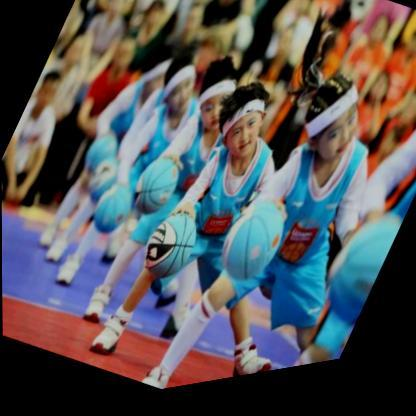basketball: (135, 205, 207, 295)
